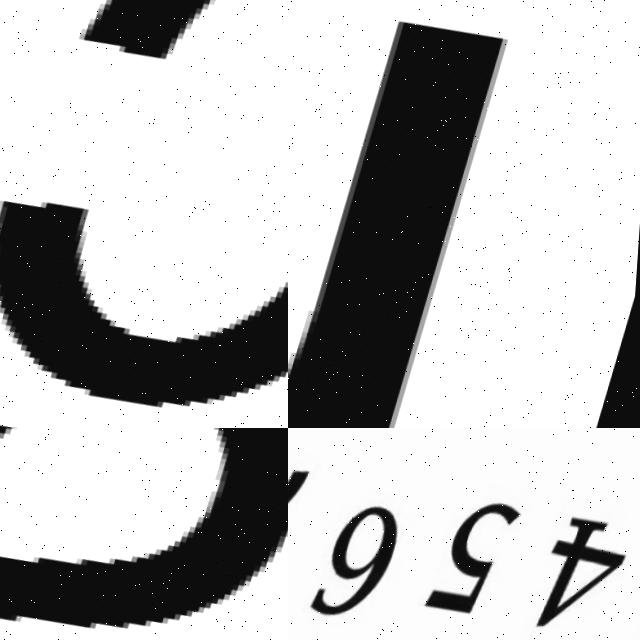4: (525, 505, 640, 640)
5: (418, 486, 531, 640)
6: (302, 489, 414, 640)
7: (288, 448, 318, 610)
A: (0, 428, 288, 640)
C: (0, 201, 288, 410)
R: (288, 0, 523, 428)
